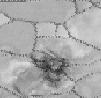good_void: (29, 47, 70, 84)
